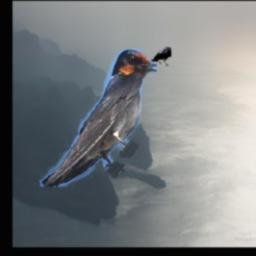Crow: (152, 47, 172, 67)
Swallow: (39, 48, 157, 187)
